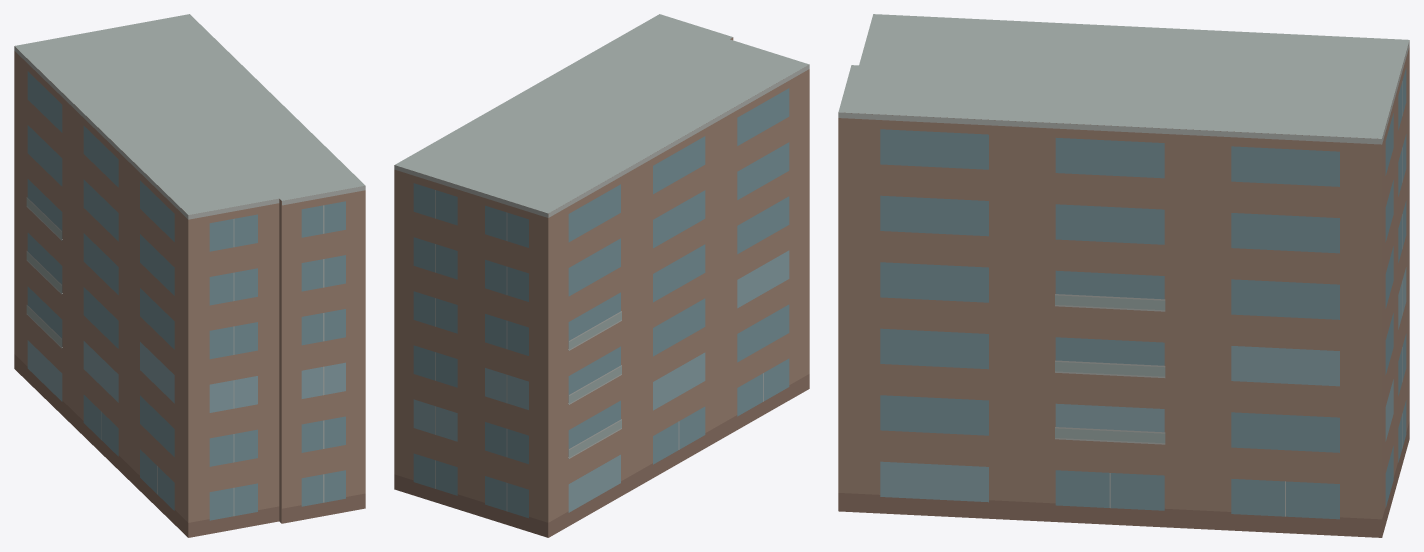
The model's file is survey-upis-32572688.glb.
3 renders of one model, left to right at view 1: azimuth 30°, elevation 25°; view 2: azimuth 150°, elevation 25°; view 3: azimuth 270°, elevation 25°, orthographic. The views are drawn at different scales.
Visible parts, largest first — view 1: survey-upis-32572688.tmp; view 2: survey-upis-32572688.tmp; view 3: survey-upis-32572688.tmp.
Boxes of the visible parts, left/top/right/bottom form: survey-upis-32572688.tmp: left=14, top=14, right=365, bottom=537; survey-upis-32572688.tmp: left=394, top=14, right=809, bottom=537; survey-upis-32572688.tmp: left=838, top=14, right=1409, bottom=537.
Bounding box in the file's own units: 11.77 × 17.5 × 22.72.
